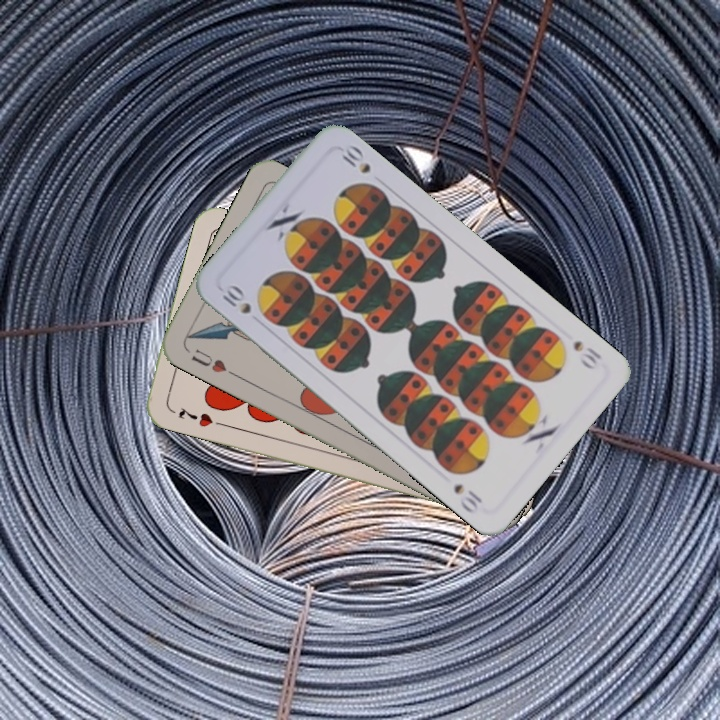H7: (174, 403, 216, 430)
HU: (187, 344, 238, 379)
S10: (218, 280, 254, 317), (569, 336, 604, 373)
